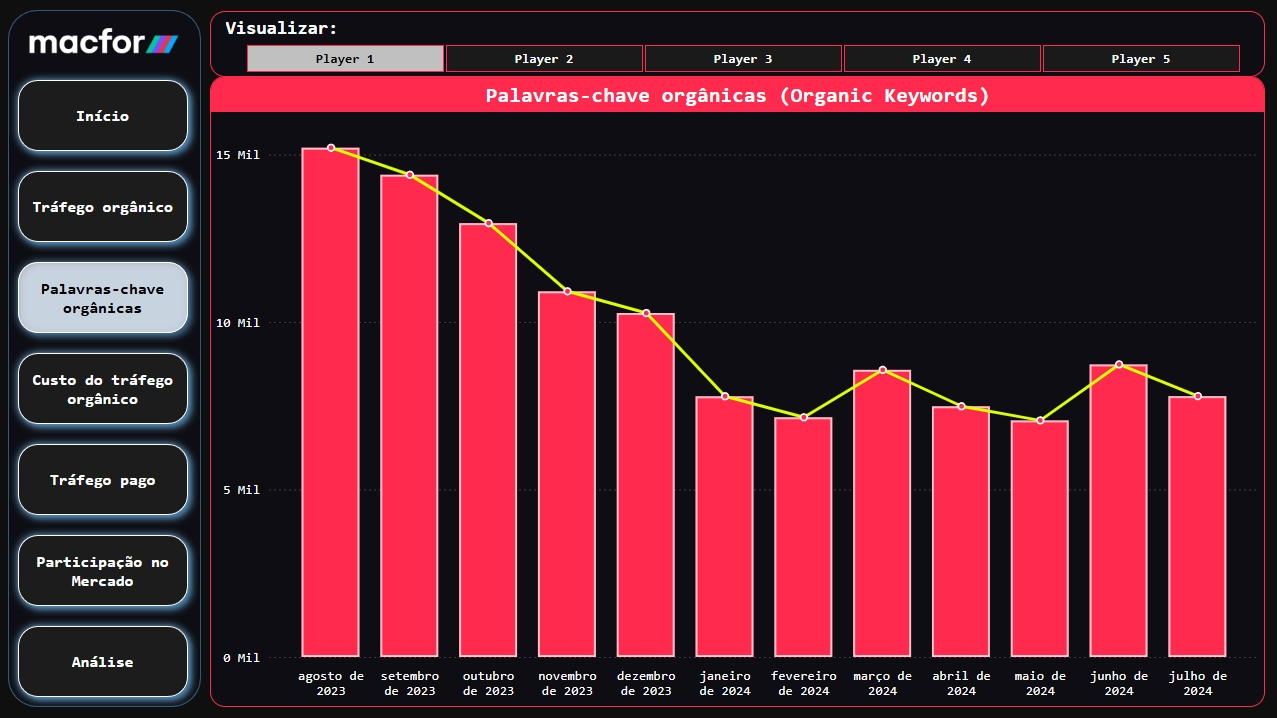

Layout of this report page (visuals, bound fields, positions):
{"tool":"powerbi","page":{"name":"Palavras-chave orgânicas","canvas":[1280,720],"ordinal":2},"visuals":[{"type":"lineClusteredColumnComboChart","title":"Palavras-chave orgânicas (Organic Keywords)","fields":{"Category":["Organic keywords (Organic keywords).Data"],"Series":["Organic keywords (Organic keywords).Player"],"Y":["Sum(Organic keywords (Organic keywords).Valor)"],"Y2":["Sum(Organic keywords (Organic keywords).Valor)"]},"box":[211,77,1055,631],"z":0},{"type":"slicer","title":"Visualizar:","fields":{"Values":["Organic keywords (Organic keywords).Player"]},"box":[211,12,1055,66],"z":1000},{"type":"shape","box":[9,11,193,697],"z":2000},{"type":"pageNavigator","box":[9,71,190,637],"z":3000},{"type":"image","box":[12,19,187,53],"z":4000}]}

Visuals, with their boxes on the page's 1280x720 design canvas (x1, y1, x2, y2). These are canvas units, not pixel positions in the 1277x718 screenshot, which may show the page scaled, cropped or inside an application window:
"Palavras-chave orgânicas (Organic Keywords)" lineClusteredColumnComboChart: 211,77,1266,708
"Visualizar:" slicer: 211,12,1266,78
shape: 9,11,202,708
pageNavigator: 9,71,199,708
image: 12,19,199,72
